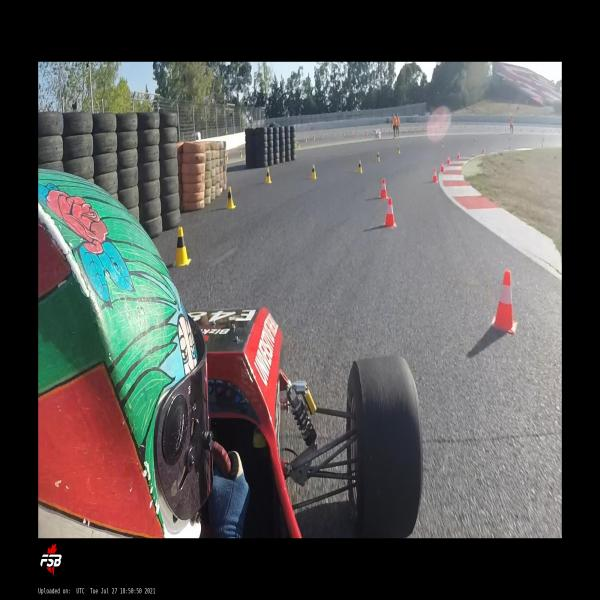orange_cone: (492, 270, 517, 334), (384, 198, 396, 227), (379, 179, 388, 199), (432, 169, 438, 183), (441, 161, 444, 172), (447, 155, 450, 164), (457, 150, 460, 158), (482, 146, 485, 154)
yellow_cone: (172, 226, 190, 266), (226, 186, 236, 208), (310, 164, 318, 180), (265, 167, 271, 184), (358, 160, 362, 173), (376, 151, 380, 162), (397, 145, 400, 154), (226, 152, 228, 162), (297, 142, 300, 148), (240, 150, 242, 157), (225, 129, 227, 135), (441, 142, 443, 148), (474, 139, 476, 145)
